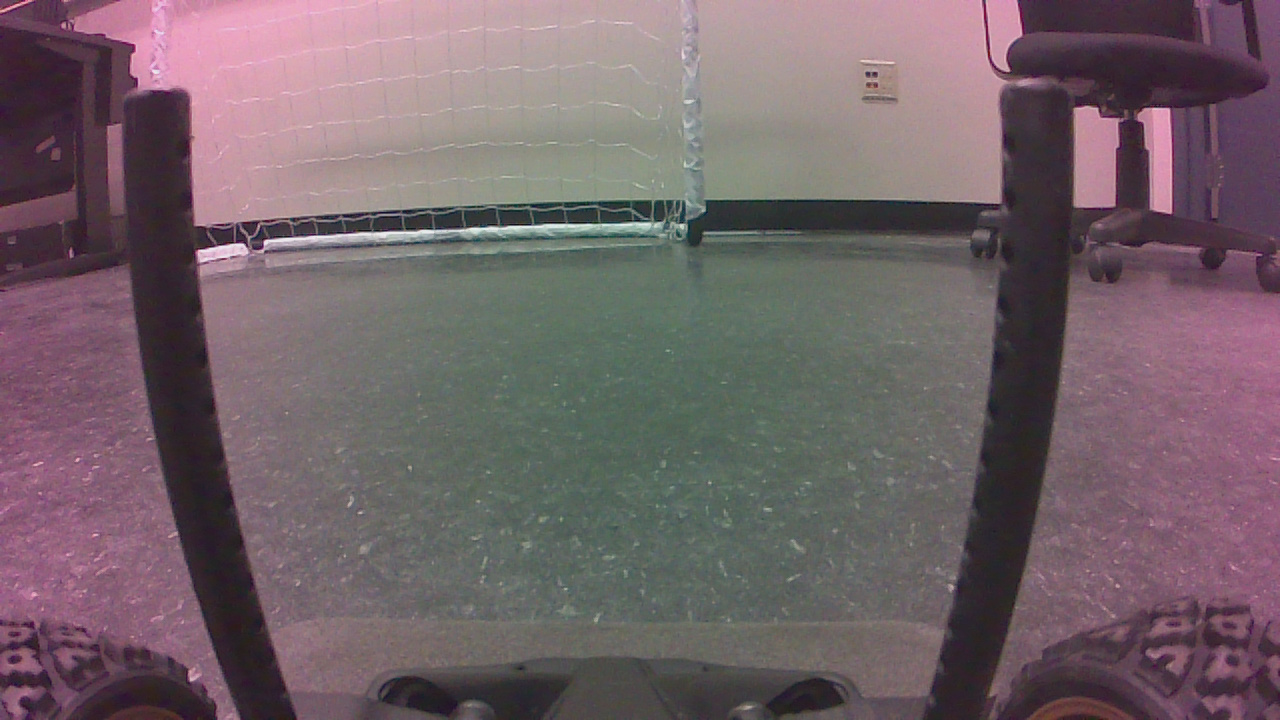goal: (152, 2, 709, 270)
